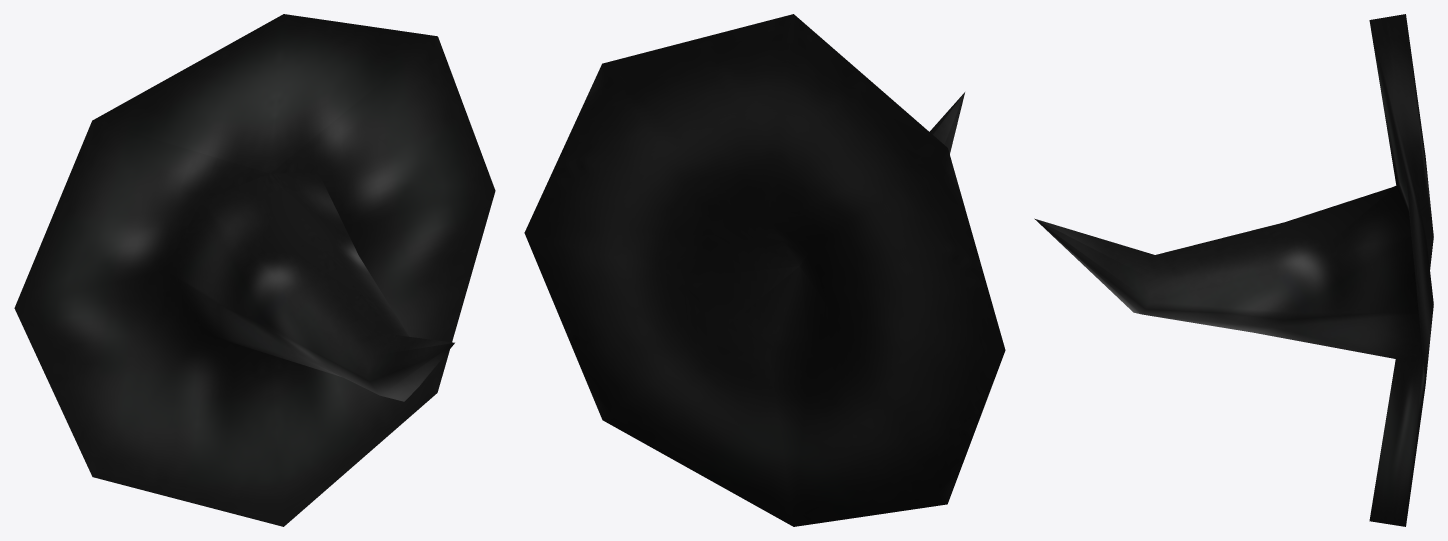
The model's file is tt_m_chr_avt_acc_hat_witch.glb.
3 views of the same model, side by side, from view 1: azimuth 30°, elevation 25°; view 2: azimuth 150°, elevation 25°; view 3: azimuth 270°, elevation 25° (orthographic). The views are drawn at different scales.
Visible parts, largest first — view 1: tt_m_chr_avt_acc_hat_witch; view 2: tt_m_chr_avt_acc_hat_witch; view 3: tt_m_chr_avt_acc_hat_witch.
Part boxes in pixels (left/top/right/bottom): tt_m_chr_avt_acc_hat_witch: left=14, top=14, right=495, bottom=526; tt_m_chr_avt_acc_hat_witch: left=524, top=14, right=1005, bottom=526; tt_m_chr_avt_acc_hat_witch: left=1034, top=14, right=1433, bottom=526.
Bounding box in the file's own units: 7.99 × 8.14 × 5.88.
1 material, 1 textured.
